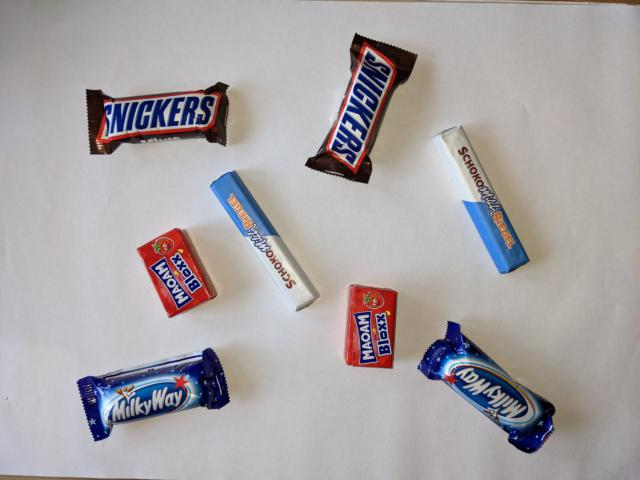MAOAM: (134, 224, 218, 320), (339, 282, 401, 372)
MilkyWay: (414, 318, 559, 456), (74, 347, 232, 445)
Schokoriegel: (207, 168, 323, 315), (427, 120, 532, 278)
Snickers: (303, 31, 420, 187), (81, 79, 233, 158)
